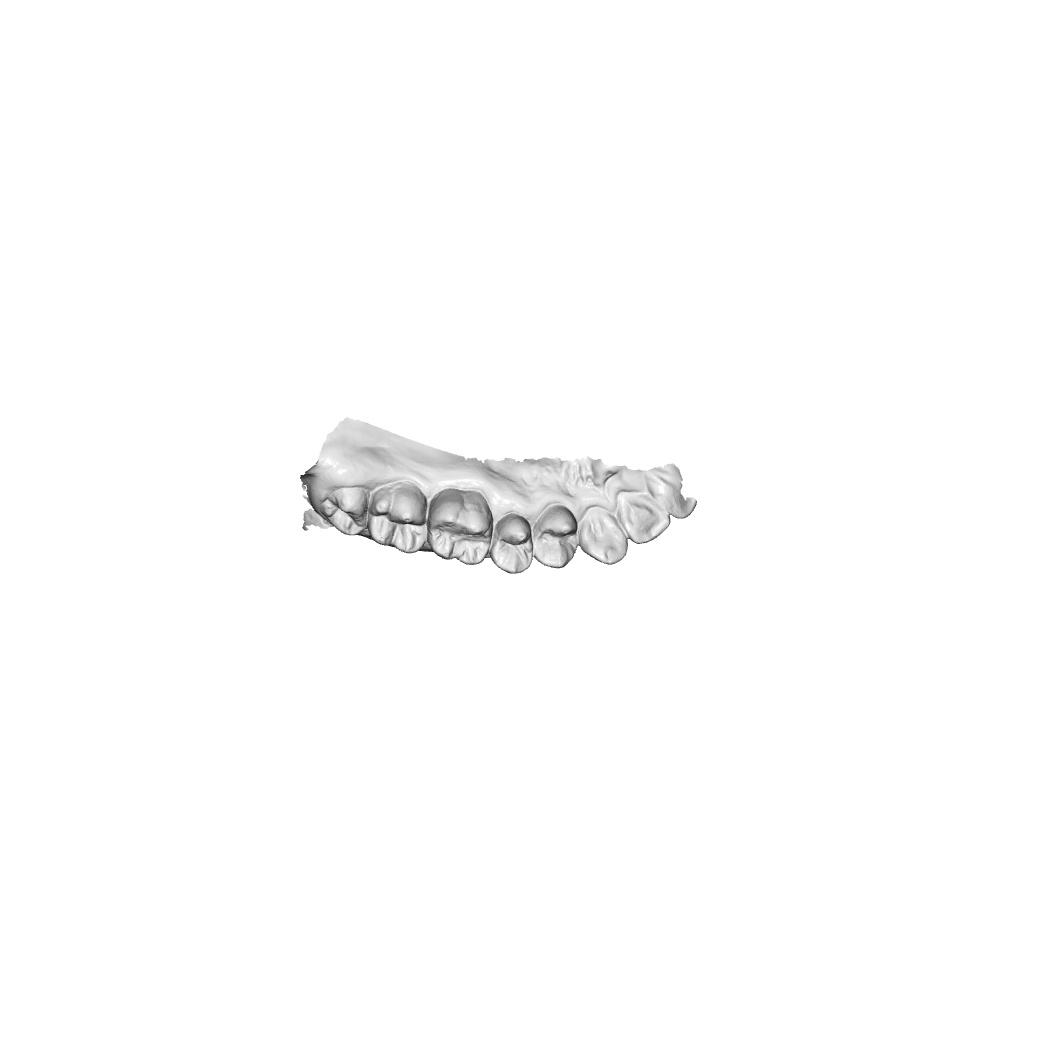canine: (577, 505, 629, 567)
incisor: (616, 490, 671, 545), (645, 467, 698, 519)
molar: (426, 487, 493, 567), (366, 479, 430, 555), (319, 485, 371, 537)
premolar: (530, 504, 579, 570), (489, 513, 534, 575)
